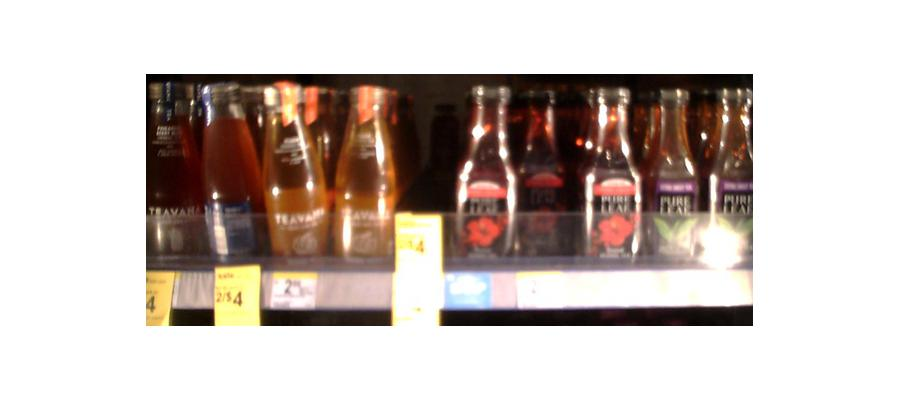bottle: (256, 80, 328, 260), (327, 90, 395, 264), (200, 80, 263, 264), (580, 82, 640, 260), (455, 83, 513, 262), (644, 80, 699, 263), (143, 75, 196, 252), (518, 89, 569, 251), (704, 76, 750, 254)
